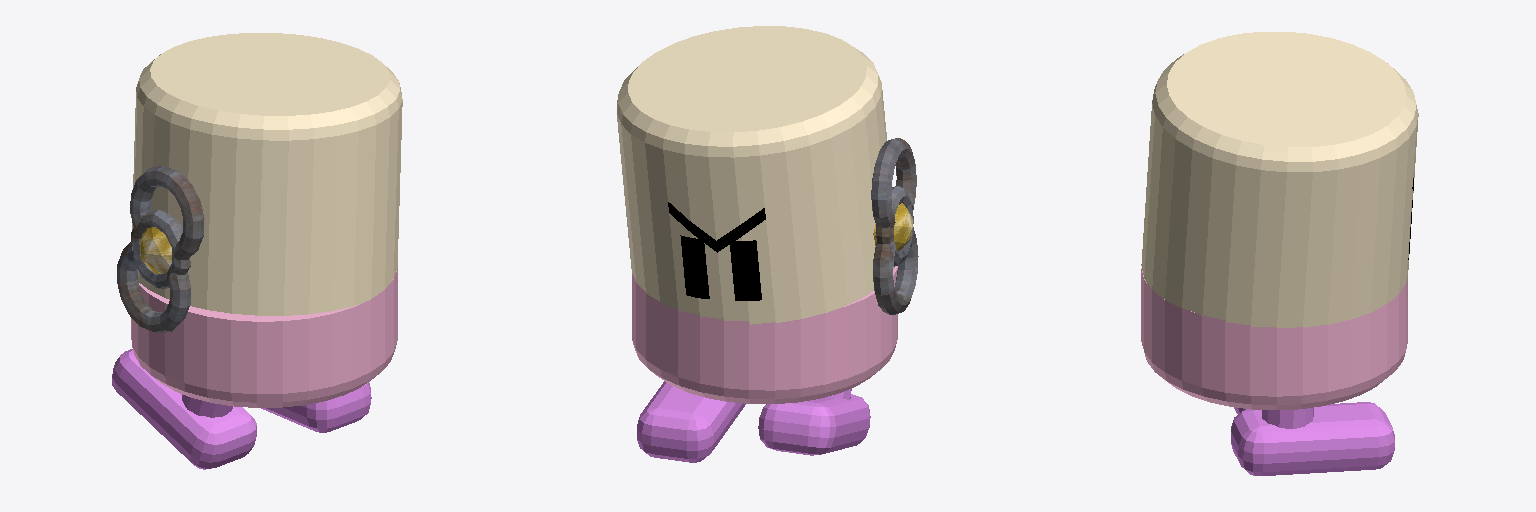
The picture shows the model from 3 angles: view 1: azimuth 30°, elevation 25°; view 2: azimuth 150°, elevation 25°; view 3: azimuth 270°, elevation 25°; orthographic projection.
Parts seen in each view (by area): view 1: Head, Jaw, WindupKey, LeftLeg, RightLeg; view 2: Head, Jaw, WindupKey, RightLeg, LeftLeg; view 3: Head, Jaw, RightLeg.
Boxes of the visible parts, x1,y1,x2,y2 form: Head: [132, 33, 402, 315]; Jaw: [131, 269, 397, 407]; WindupKey: [117, 166, 204, 332]; LeftLeg: [112, 349, 256, 469]; RightLeg: [261, 382, 371, 432]; Head: [617, 26, 894, 324]; Jaw: [632, 266, 897, 403]; WindupKey: [871, 138, 918, 314]; RightLeg: [637, 381, 745, 462]; LeftLeg: [758, 389, 870, 455]; Head: [1141, 32, 1418, 327]; Jaw: [1141, 268, 1407, 409]; RightLeg: [1231, 402, 1394, 475].
Bounding box in the file's own units: 114 × 152 × 104.
Materials: 6 (2 with a texture image).